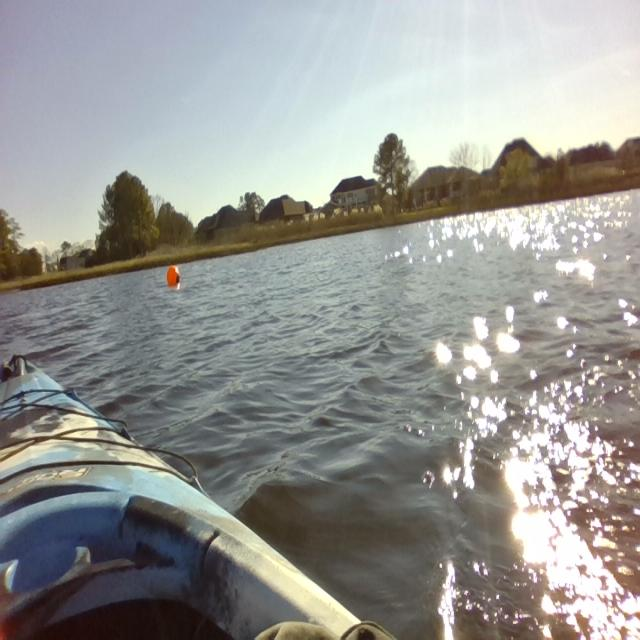Buoy: (161, 257, 192, 296)
